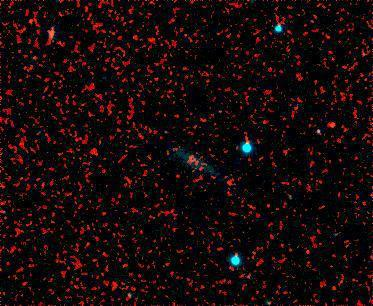star: (318, 111, 348, 141)
